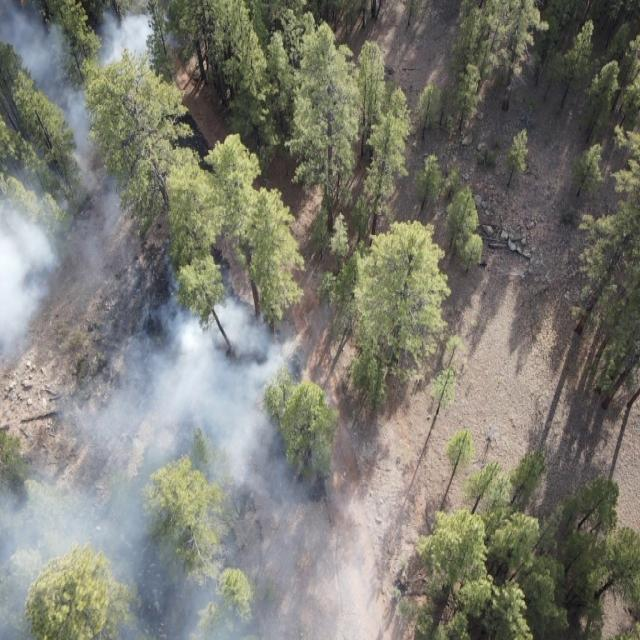smoke: (0, 282, 379, 640), (0, 0, 179, 365)
